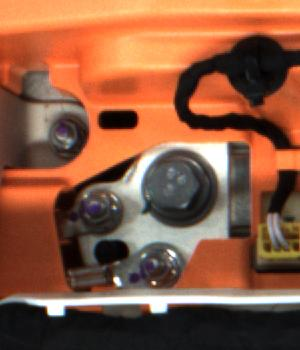nut_b: (139, 142, 223, 230)
